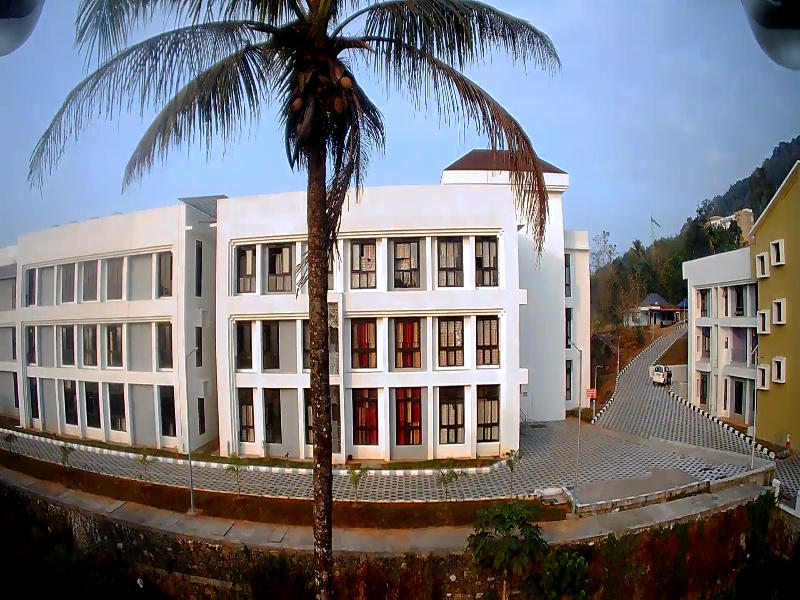coconut: (286, 95, 303, 113), (330, 97, 348, 113), (338, 78, 354, 93), (295, 124, 307, 136)
